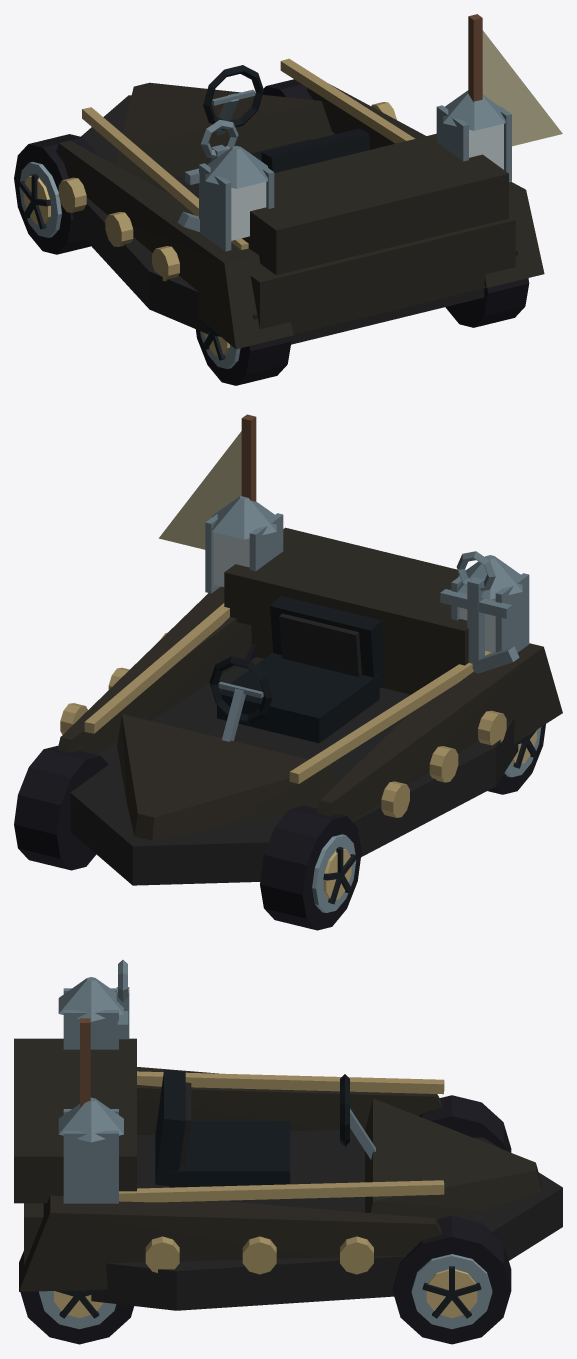
The model's file is kart.glb.
The picture shows the model from 3 angles, top to bottom: view 1: azimuth 30°, elevation 25°; view 2: azimuth 150°, elevation 25°; view 3: azimuth 270°, elevation 25°; orthographic projection. The views are drawn at different scales.
Parts seen in each view (by area): view 1: identity-ship-ship-pointed-bow-and-raised-stern, identity-ship-motif-lanterns, wheel-front-left, identity-ship-motif-sail, identity-ship-driver-cockpit, wheel-rear-left, wheel-rear-right, identity-ship-motif-anchor, wheel-front-right; view 2: identity-ship-ship-pointed-bow-and-raised-stern, identity-ship-driver-cockpit, wheel-front-left, identity-ship-motif-lanterns, wheel-front-right, identity-ship-motif-sail, identity-ship-motif-anchor, wheel-rear-left; view 3: identity-ship-ship-pointed-bow-and-raised-stern, identity-ship-driver-cockpit, wheel-front-right, identity-ship-motif-lanterns, wheel-rear-right, wheel-front-left, identity-ship-motif-sail, identity-ship-motif-anchor.
Part boxes in pixels (x1,y1,x2,y2): identity-ship-ship-pointed-bow-and-raised-stern: (56, 58, 544, 349); identity-ship-motif-lanterns: (199, 90, 511, 251); wheel-front-left: (14, 134, 98, 254); identity-ship-motif-sail: (468, 14, 562, 146); identity-ship-driver-cockpit: (203, 65, 369, 173); wheel-rear-left: (196, 319, 291, 385); wheel-rear-right: (445, 278, 529, 327); identity-ship-motif-anchor: (178, 120, 238, 231); wheel-front-right: (263, 79, 312, 99); identity-ship-ship-pointed-bow-and-raised-stern: (57, 527, 562, 885); identity-ship-driver-cockpit: (209, 596, 385, 743); wheel-front-left: (260, 805, 361, 930); identity-ship-motif-lanterns: (205, 495, 529, 652); wheel-front-right: (14, 745, 108, 870); identity-ship-motif-sail: (158, 414, 256, 549); identity-ship-motif-anchor: (440, 551, 519, 673); wheel-rear-left: (488, 724, 545, 794); identity-ship-ship-pointed-bow-and-raised-stern: (14, 1038, 562, 1310); identity-ship-driver-cockpit: (155, 1069, 375, 1187); wheel-front-right: (392, 1216, 511, 1344); identity-ship-motif-lanterns: (58, 977, 123, 1203); wheel-rear-right: (20, 1289, 134, 1344); wheel-front-left: (419, 1095, 511, 1152); identity-ship-motif-sail: (80, 1018, 90, 1107); identity-ship-motif-anchor: (116, 960, 129, 1039).
Size of the model in its own units: 2.24 by 1.74 by 2.77.
